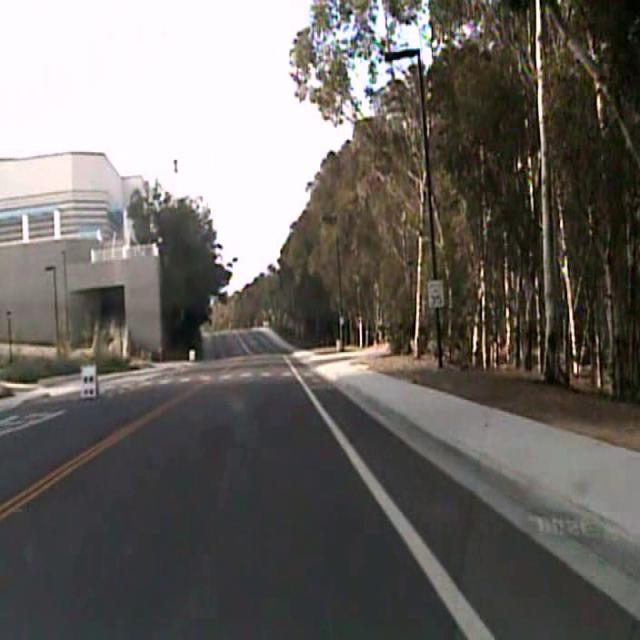speedLimit35: (426, 277, 446, 308)
